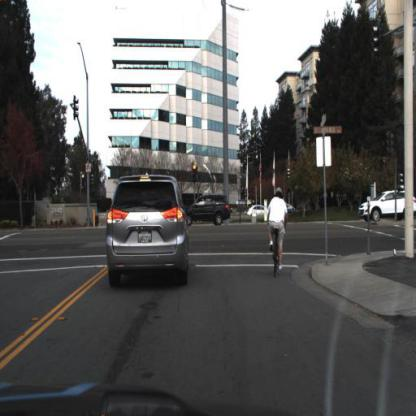biker: (265, 184, 290, 282)
car: (104, 172, 191, 294), (356, 184, 411, 230), (186, 193, 235, 229), (250, 204, 270, 220)
trafficLight-Red: (191, 161, 199, 184), (192, 164, 198, 180), (82, 173, 86, 189)
